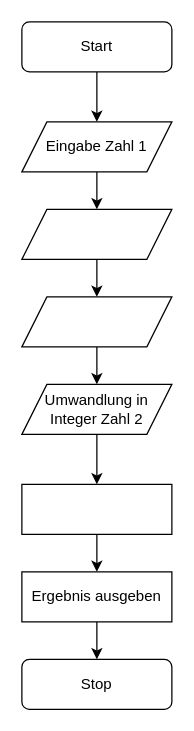
This 194x731 diagram has some shape labels left out. The centre of each missing label's shape, as x and y in pixels:
"Eingabe Zahl 2" goes at (x=96, y=321).
"Summe berechnen" goes at (x=96, y=508).
"Umwandlung in Integer Zahl 1" goes at (x=96, y=233).
